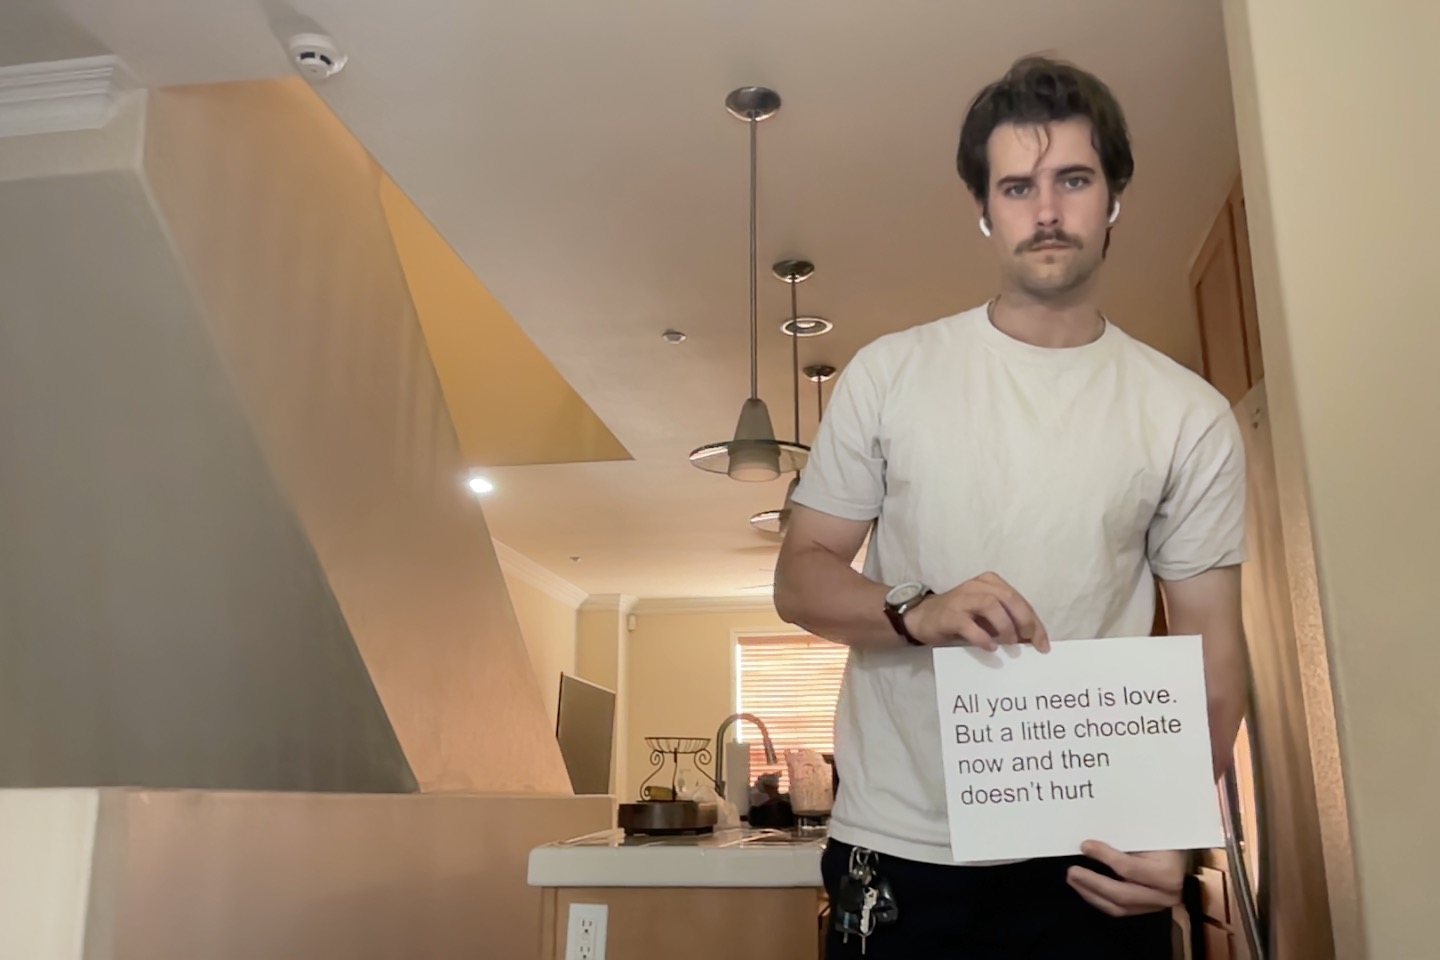phrase: (945, 682, 1187, 810)
